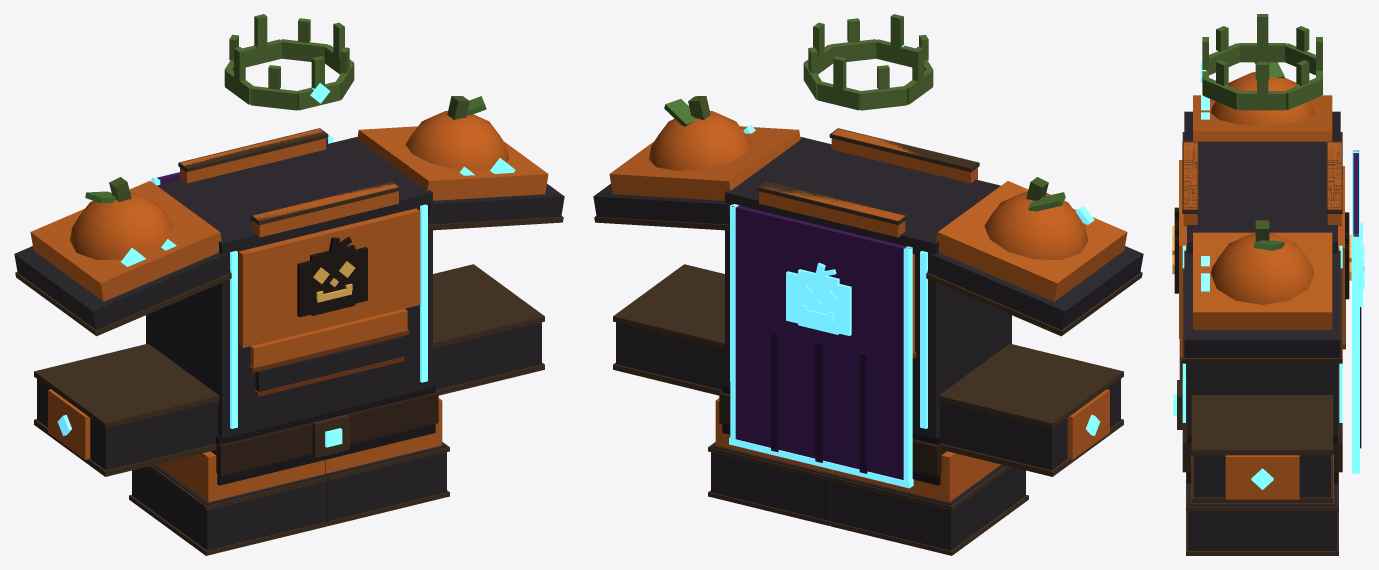
The picture shows the model from 3 angles, left to right: view 1: azimuth 30°, elevation 25°; view 2: azimuth 150°, elevation 25°; view 3: azimuth 270°, elevation 25°; orthographic projection.
Parts seen in each view (by area): view 1: pumpkin-king-plate; view 2: pumpkin-king-plate; view 3: pumpkin-king-plate.
Part boxes in pixels (x1,y1,x2,y2): pumpkin-king-plate: (14,14,564,555); pumpkin-king-plate: (593,14,1143,555); pumpkin-king-plate: (1172,14,1364,555).
Bounding box in the file's own units: 1.23 × 1.15 × 0.4368.
